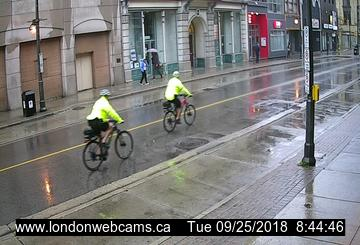person: (149, 49, 164, 80), (139, 57, 151, 87), (252, 40, 264, 65)
riding bicycle: (75, 89, 135, 171), (160, 70, 198, 134)
